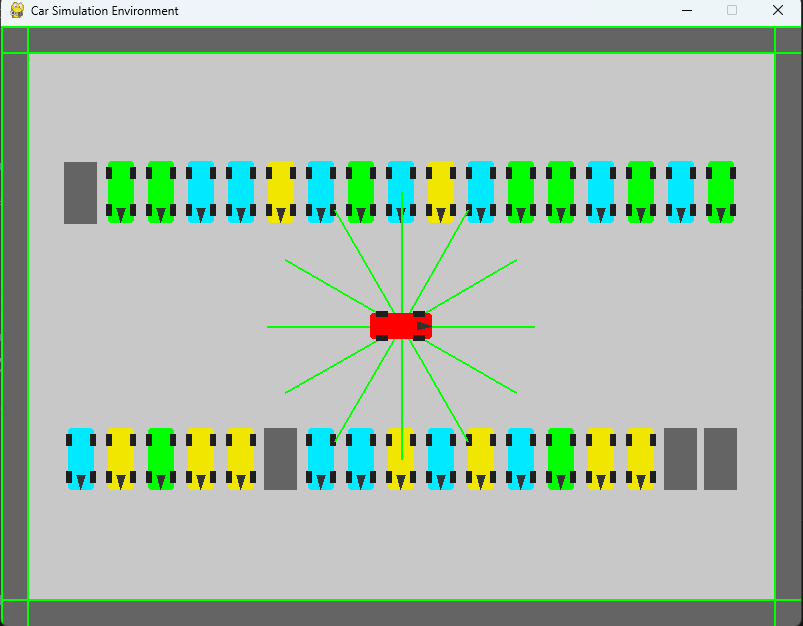ControlledCar: (367, 308, 441, 346)
ParkedCar: (59, 419, 100, 495), (582, 424, 623, 496), (302, 154, 341, 226), (464, 424, 501, 499), (102, 153, 138, 226), (141, 153, 176, 228), (222, 423, 260, 492), (263, 155, 298, 228), (703, 155, 738, 227), (305, 421, 340, 493), (104, 426, 142, 492), (463, 156, 498, 227), (143, 422, 178, 493), (624, 155, 658, 228), (344, 422, 378, 495), (186, 153, 218, 230), (423, 425, 459, 492), (343, 154, 376, 226), (383, 424, 416, 496), (184, 425, 218, 492), (425, 156, 457, 227), (504, 156, 536, 227), (547, 424, 578, 497), (505, 423, 538, 491), (224, 155, 256, 224), (384, 156, 416, 224), (586, 156, 618, 224), (665, 156, 696, 224), (625, 428, 657, 492), (544, 162, 575, 224)
ParkingSpot: (663, 422, 702, 497), (704, 421, 740, 502), (59, 155, 99, 227), (263, 421, 299, 495)
